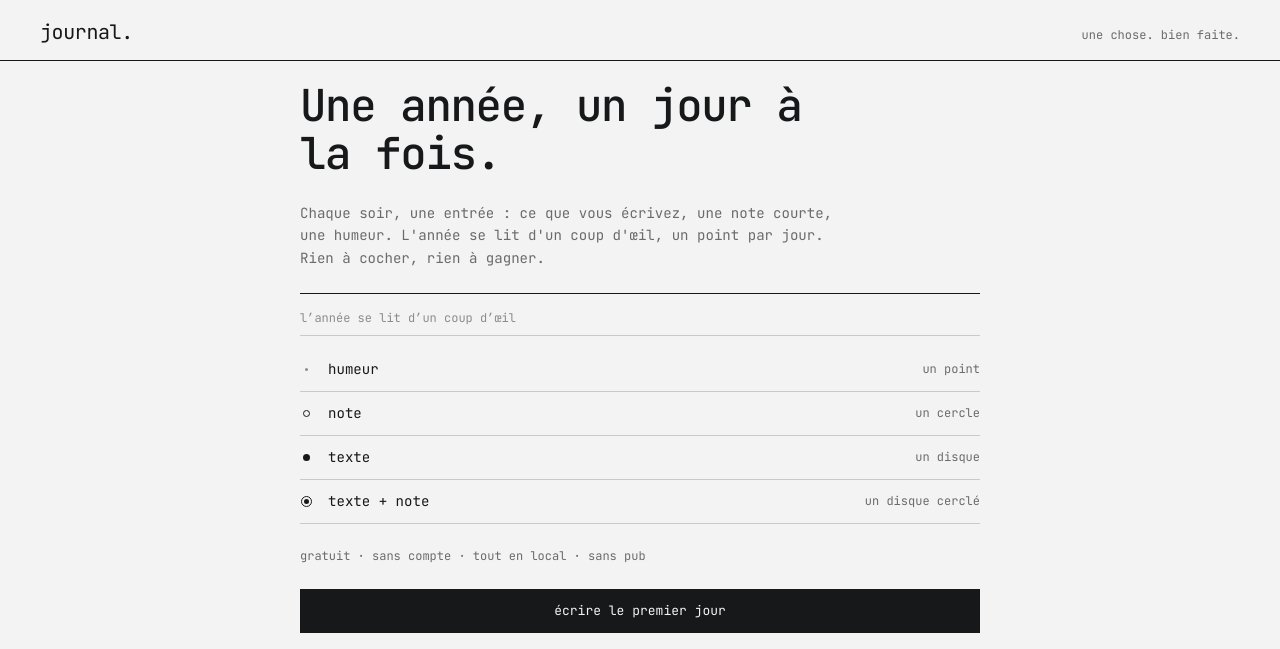
Test case: JournalApp › remplace l’aide du champ par le compte de mots dès la première frappe
Click the button "écrire le premier jour" at (640, 611), box 300,589 -> 980,633
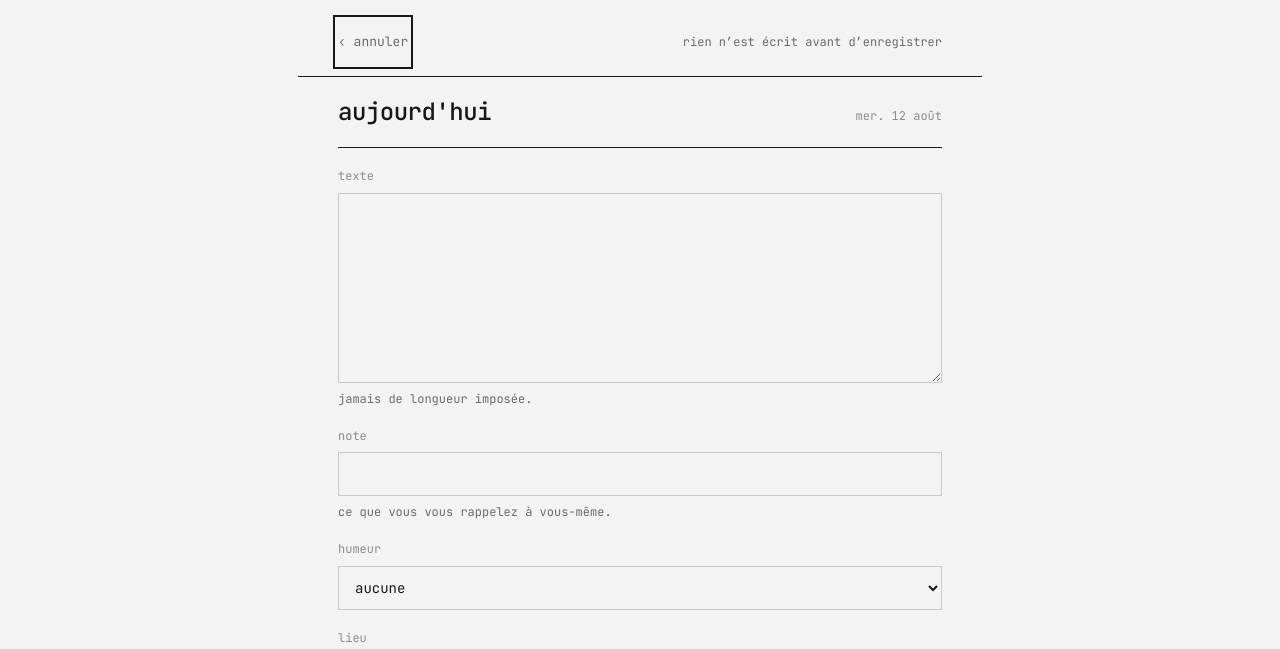
Expected: the text "jamais de longueur imposée." is shown, 338,391 -> 532,407
Type "un deux" into the text box labelled "texte" at (640, 288), box 338,193 -> 942,383
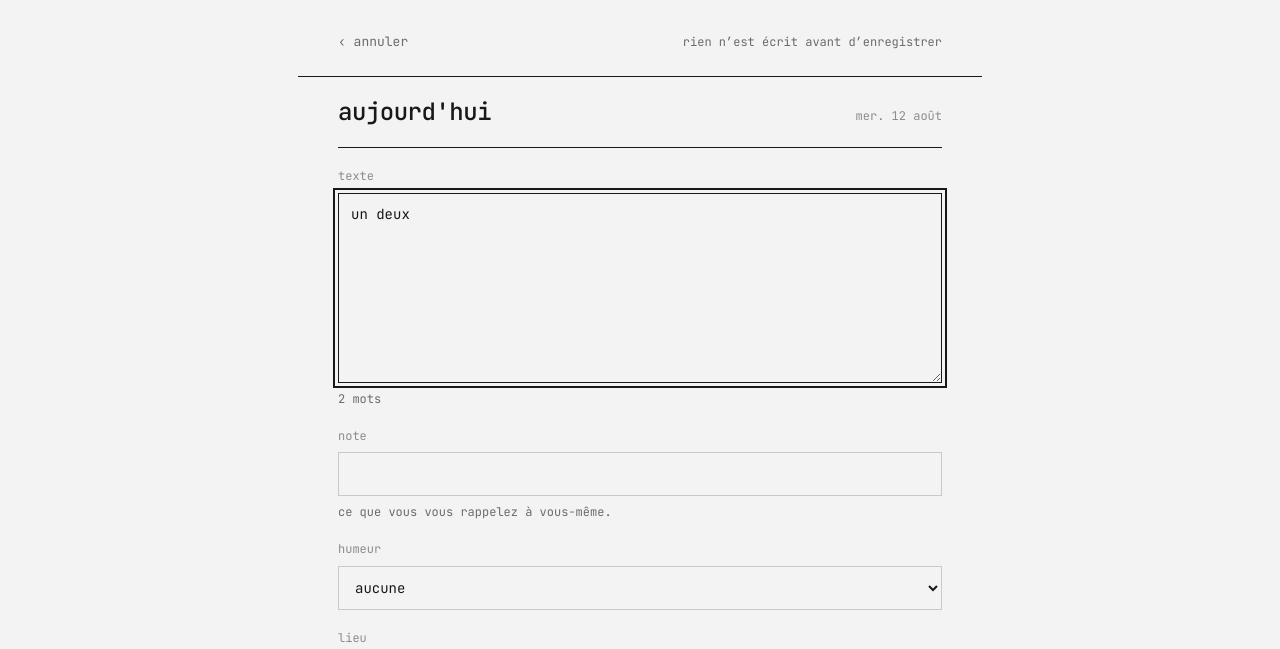
Expected: the text "2 mots" is shown, 338,391 -> 381,407
